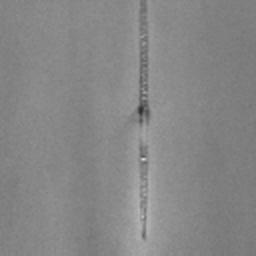Slag inclusion: (134, 0, 152, 132), (136, 142, 152, 242)
